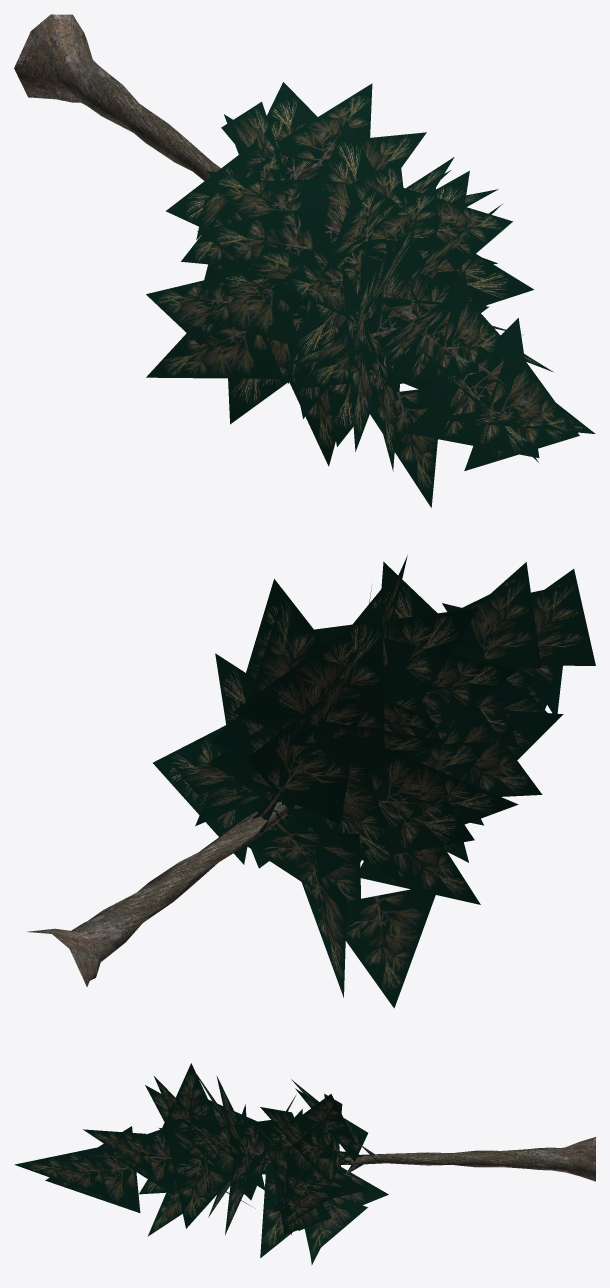
File: tree_pine_lg_b.glb
The picture shows the model from 3 angles, top to bottom: view 1: azimuth 30°, elevation 25°; view 2: azimuth 150°, elevation 25°; view 3: azimuth 270°, elevation 25°; orthographic projection. The views are drawn at different scales.
Bounding box in the file's own units: 260 × 261 × 648.
Materials: 2 (2 with a texture image).
